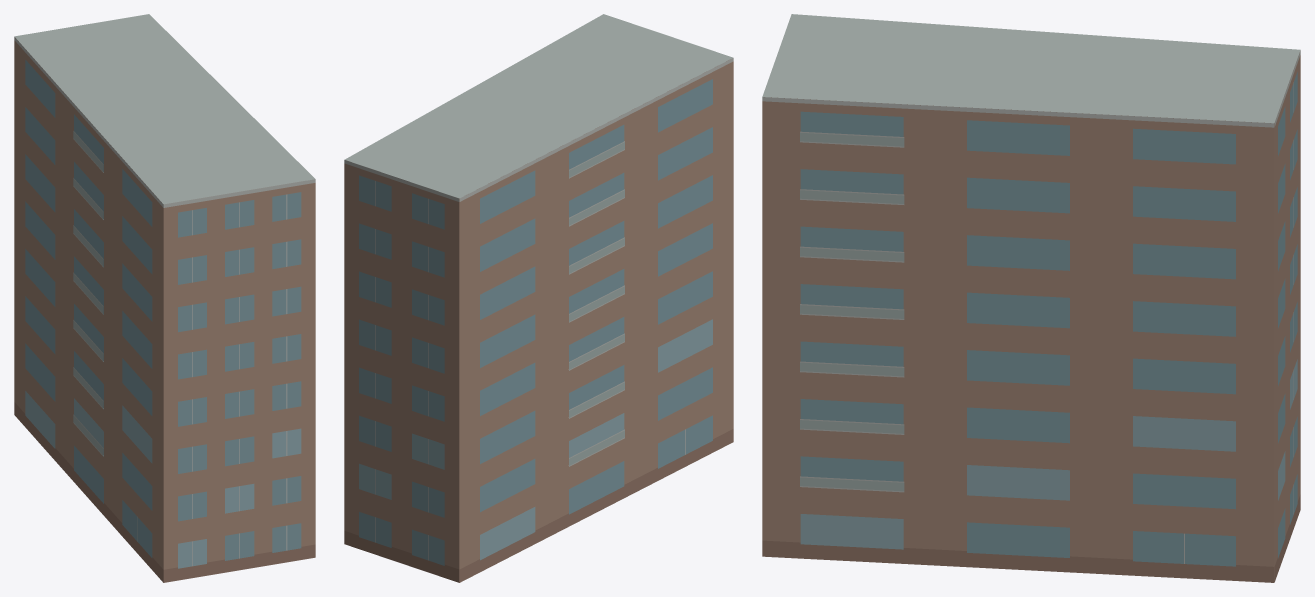
File: survey-upis-32661927.glb
The picture shows the model from 3 angles, left to right: view 1: azimuth 30°, elevation 25°; view 2: azimuth 150°, elevation 25°; view 3: azimuth 270°, elevation 25°; orthographic projection. The views are drawn at different scales.
Parts seen in each view (by area): view 1: survey-upis-32661927.tmp; view 2: survey-upis-32661927.tmp; view 3: survey-upis-32661927.tmp.
Boxes of the visible parts, <box> form: survey-upis-32661927.tmp: <box>14,14,315,582</box>; survey-upis-32661927.tmp: <box>344,14,733,582</box>; survey-upis-32661927.tmp: <box>762,14,1300,582</box>.
Size of the model in its own units: 13.17 by 25.8 by 27.4.
